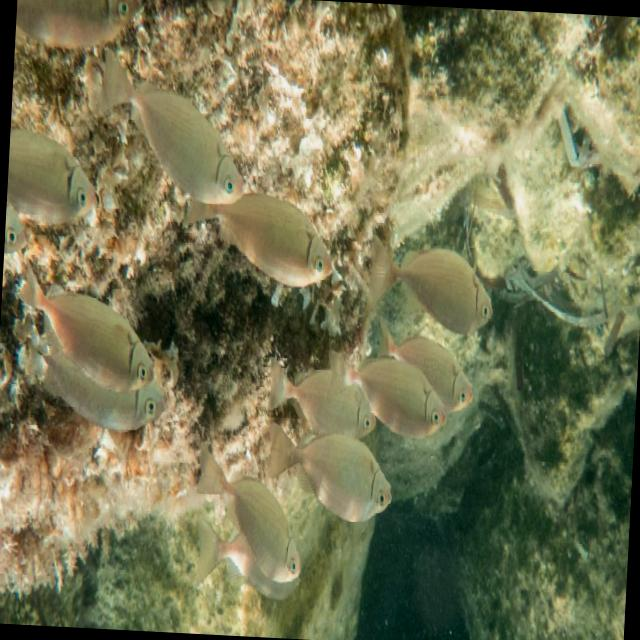Sokar Baligi: (8, 254, 165, 394), (357, 218, 507, 348), (175, 185, 342, 296), (258, 414, 397, 543)
